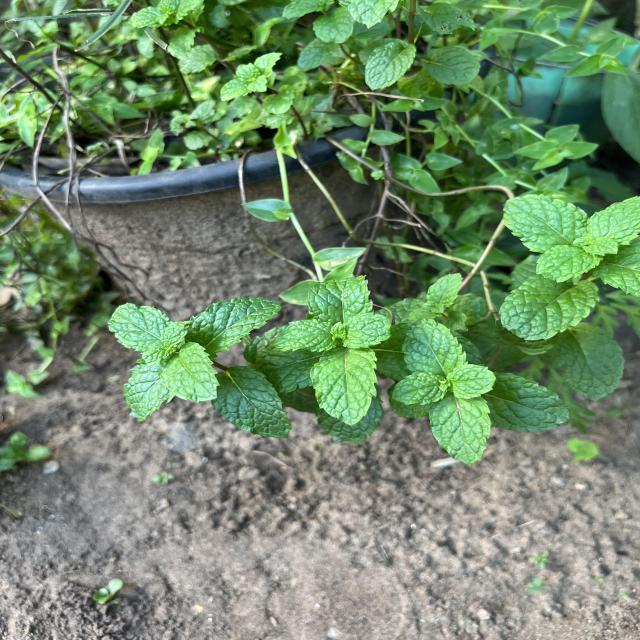Mentha spicata: (497, 276, 602, 344), (212, 365, 294, 440), (185, 296, 282, 358), (310, 348, 378, 428), (502, 194, 590, 254), (429, 396, 492, 466), (158, 341, 222, 404), (400, 318, 468, 372), (106, 302, 172, 352), (532, 244, 603, 284), (272, 320, 334, 352), (392, 372, 448, 406), (341, 312, 392, 349), (447, 364, 497, 401)
